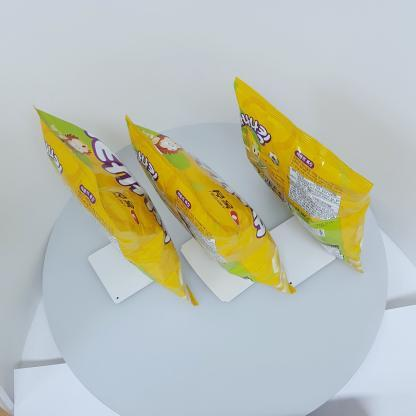Plastic Packaging: (33, 105, 171, 315), (232, 80, 384, 264)
